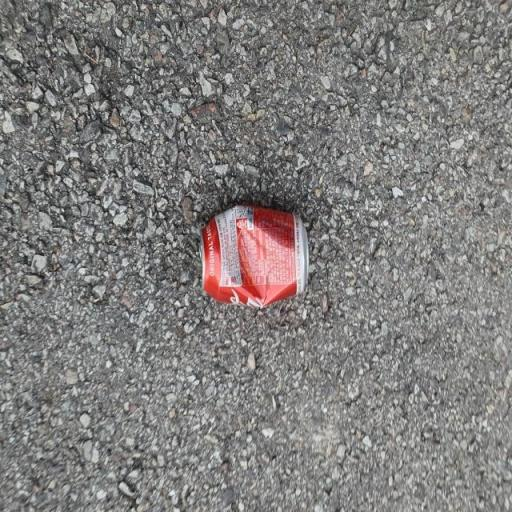metal: (190, 191, 320, 327)
